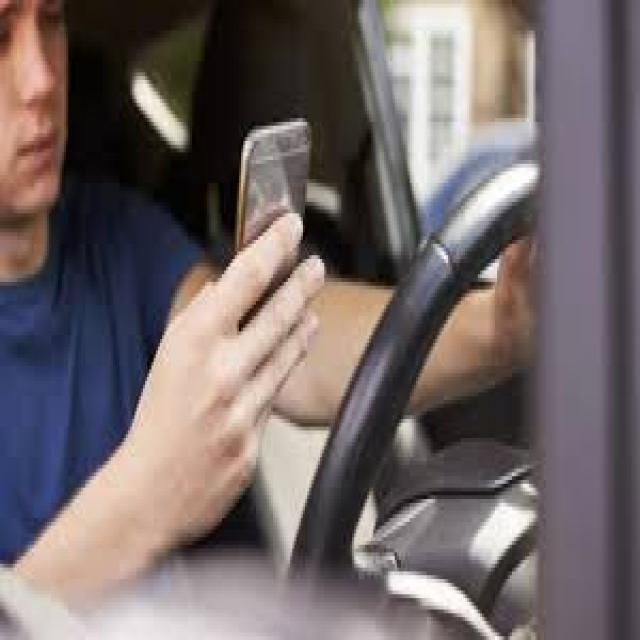Cellphone_texting: (167, 114, 322, 522)
